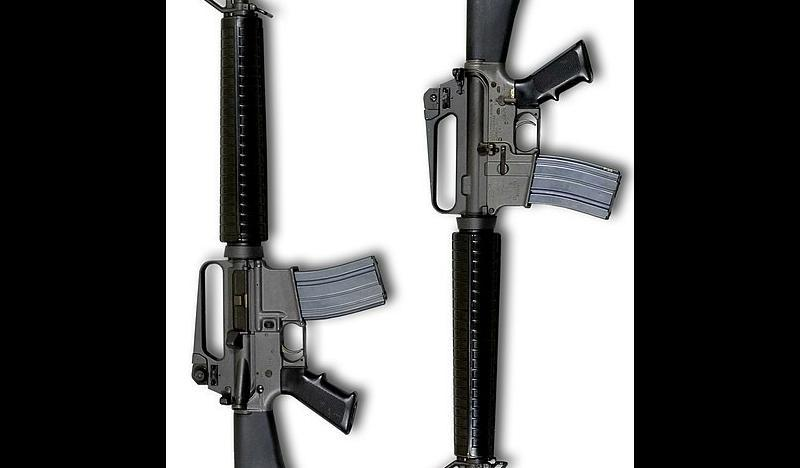gun: (185, 0, 411, 468), (420, 0, 626, 468)
